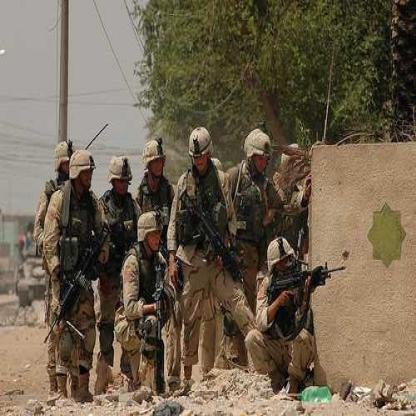rifle: (266, 260, 344, 318)
